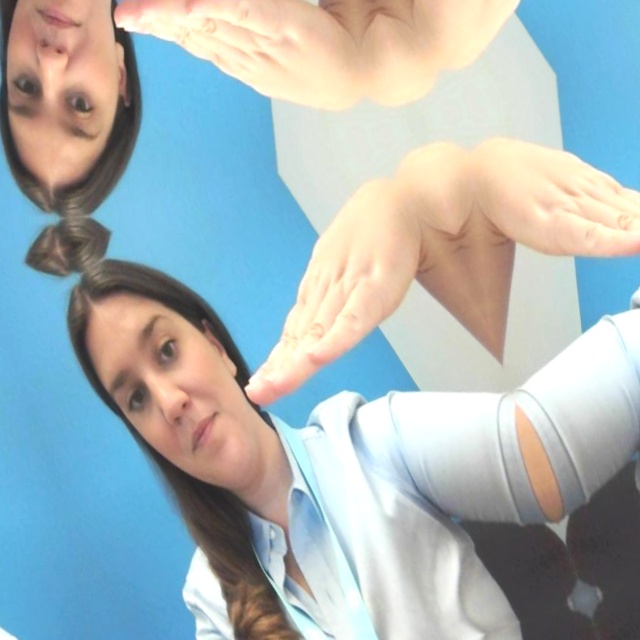Paper: (78, 0, 392, 184)
